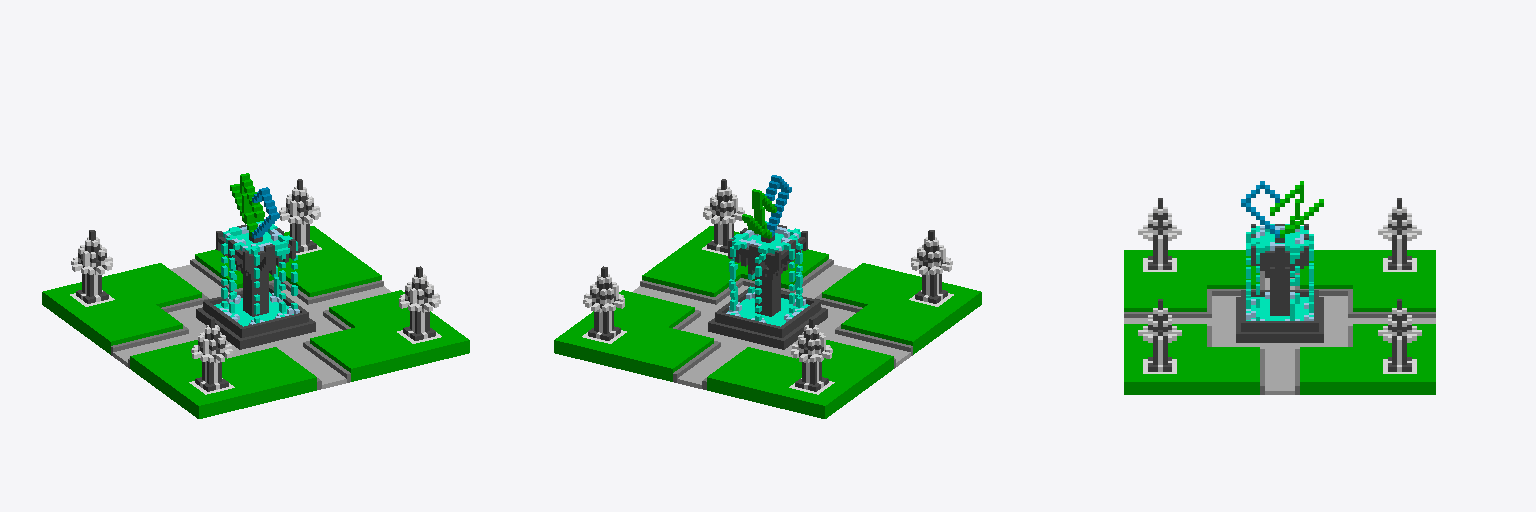
The picture shows the model from 3 angles: view 1: azimuth 30°, elevation 25°; view 2: azimuth 150°, elevation 25°; view 3: azimuth 270°, elevation 25°; orthographic projection.
Visible parts, largest first — view 1: object 1; view 2: object 1; view 3: object 1.
Boxes of the visible parts, x1=… form: object 1: x1=42, y1=173, x2=469, y2=418; object 1: x1=554, y1=175, x2=981, y2=418; object 1: x1=1124, y1=181, x2=1435, y2=394.
Bounding box in the file's own units: 6.4 × 3.3 × 6.4.
Materials: 1 (1 with a texture image).